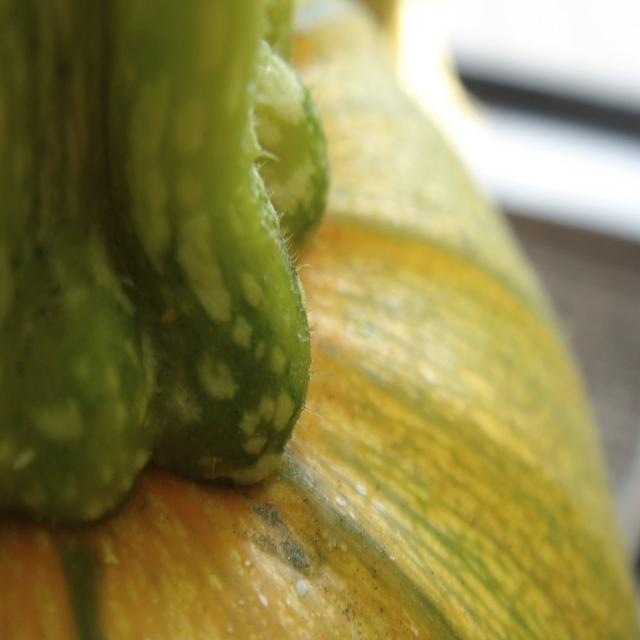Cucumber: (29, 5, 373, 543)
